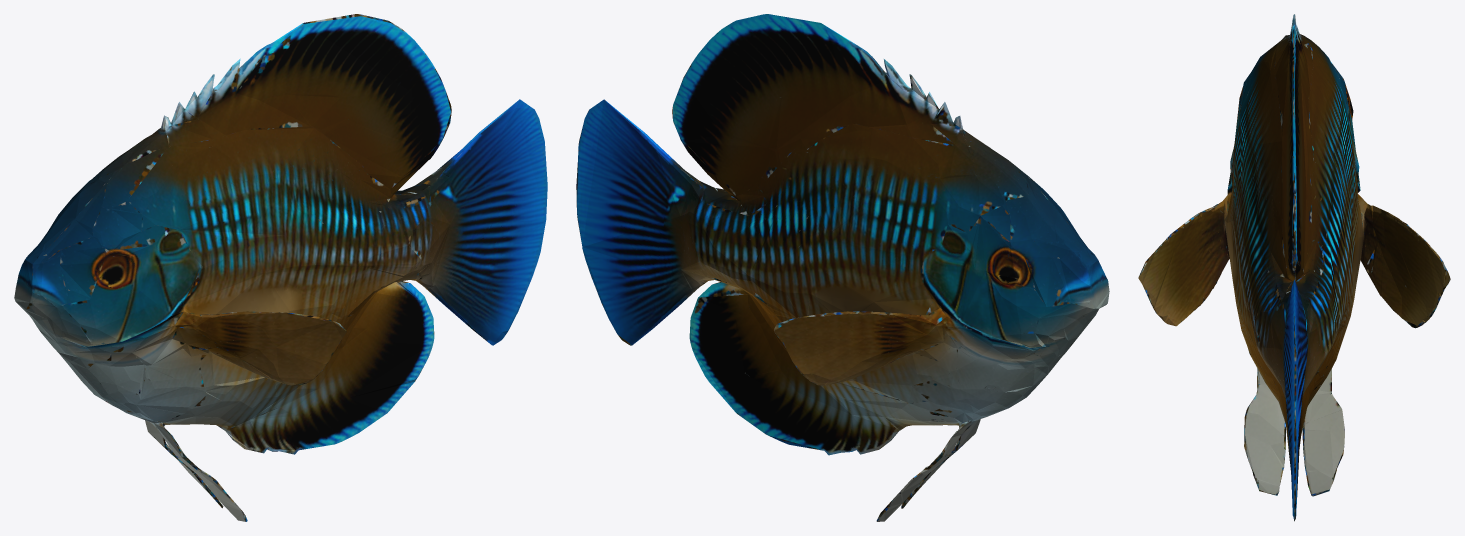
Rendered from fish_0049_smpl23_resized.glb.
3 views of the same model, side by side, from view 1: azimuth 30°, elevation 25°; view 2: azimuth 150°, elevation 25°; view 3: azimuth 270°, elevation 25° (orthographic). The views are drawn at different scales.
Visible parts, largest first — view 1: world; view 2: world; view 3: world.
Part boxes in pixels (box(x1,y1,x2,y2)): world: box(14, 14, 547, 521); world: box(576, 14, 1109, 521); world: box(1138, 14, 1450, 521).
Size of the model in its own units: 1.99 by 1.71 by 0.9595.
1 material, 1 textured.
